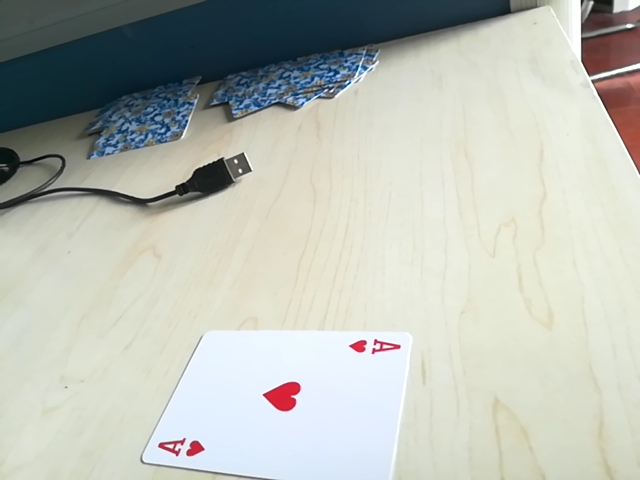hx a: (147, 434, 212, 464), (346, 333, 406, 363)
